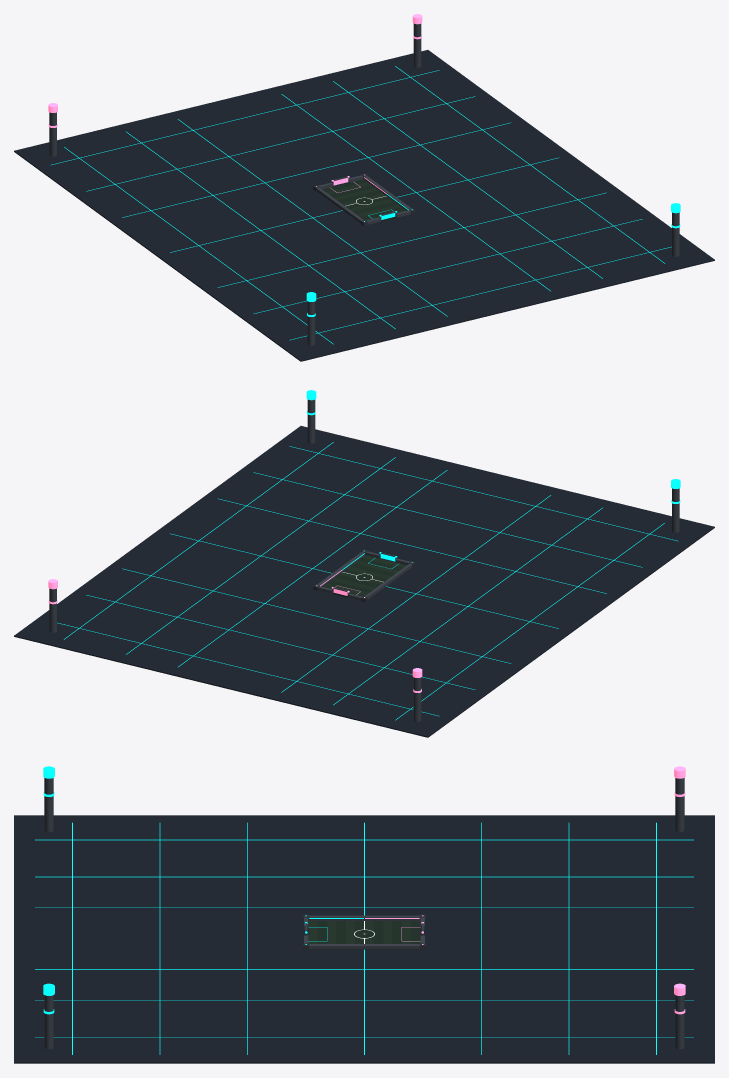
Rendered from mesa_cyber_soccer.glb.
The picture shows the model from 3 angles, top to bottom: view 1: azimuth 30°, elevation 25°; view 2: azimuth 150°, elevation 25°; view 3: azimuth 270°, elevation 25°; orthographic projection. The views are drawn at different scales.
Visible parts, largest first — view 1: ArenaStadiumFloor, TablePlaySurface; view 2: ArenaStadiumFloor, TablePlaySurface; view 3: ArenaStadiumFloor, TablePlaySurface, Cube.034, Cube.033, RailRight, Cube.036, Cube.035, Cube.038, Cube.037, RailLeft, Cylinder.018, Cylinder.024 (+2 smaller).
Part boxes in pixels (box(x1,y1,x2,y2)): ArenaStadiumFloor: box(14, 50, 714, 361); TablePlaySurface: box(322, 179, 406, 221); ArenaStadiumFloor: box(14, 426, 714, 737); TablePlaySurface: box(322, 556, 402, 597); ArenaStadiumFloor: box(14, 815, 714, 1063); TablePlaySurface: box(308, 921, 420, 949); Cube.034: box(35, 876, 693, 877); Cube.033: box(35, 839, 693, 840); RailRight: box(309, 944, 419, 949); Cube.036: box(35, 969, 693, 969); Cube.035: box(35, 907, 693, 907); Cube.038: box(35, 1037, 693, 1037); Cube.037: box(35, 1000, 693, 1000); RailLeft: box(309, 915, 419, 920); Cylinder.018: box(44, 995, 53, 1049); Cylinder.024: box(675, 995, 684, 1049).
Size of the model in its own units: 10 by 1.18 by 12.
